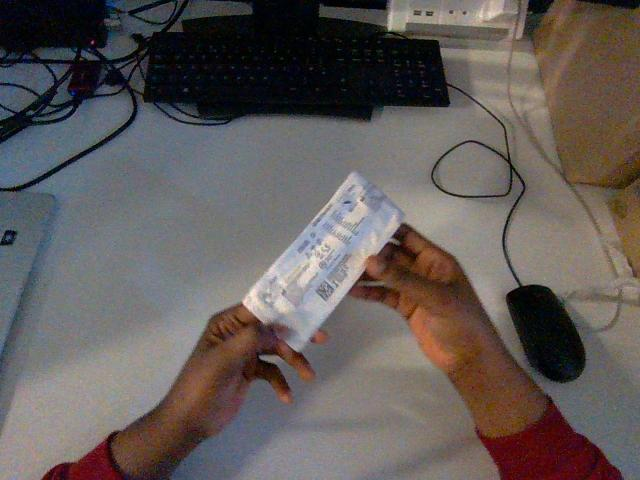syringe: (243, 172, 403, 349)
